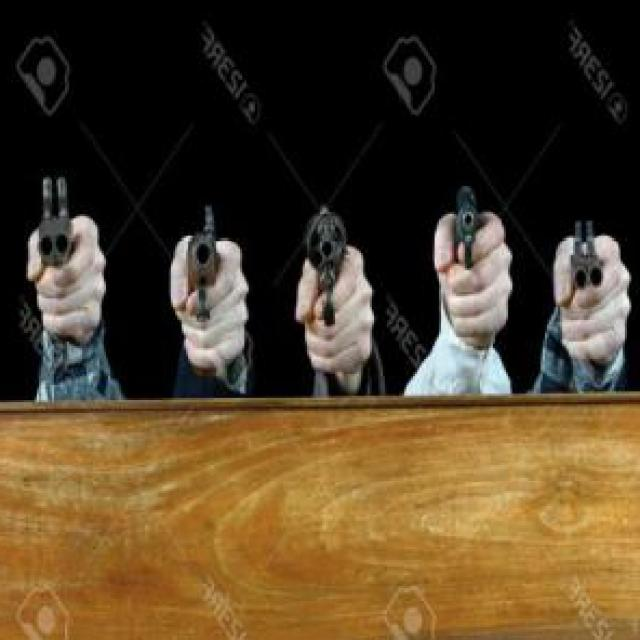pistol: (303, 201, 346, 342), (186, 201, 214, 384), (455, 186, 482, 280)
